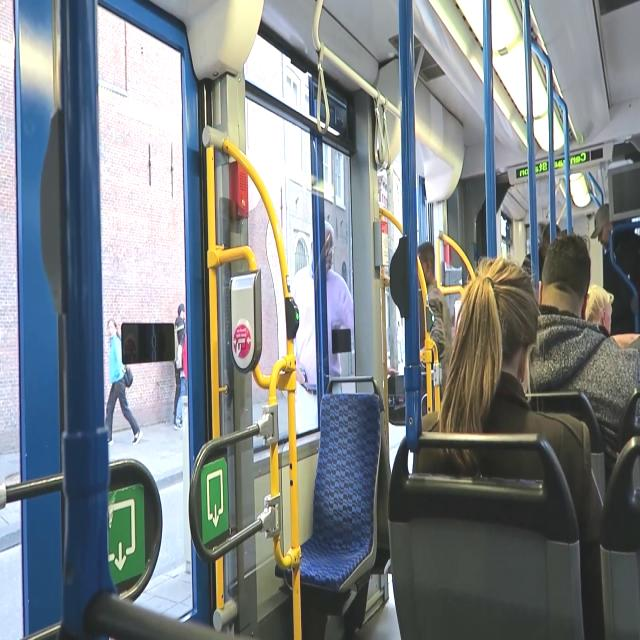asiento-libre: (276, 374, 385, 639)
